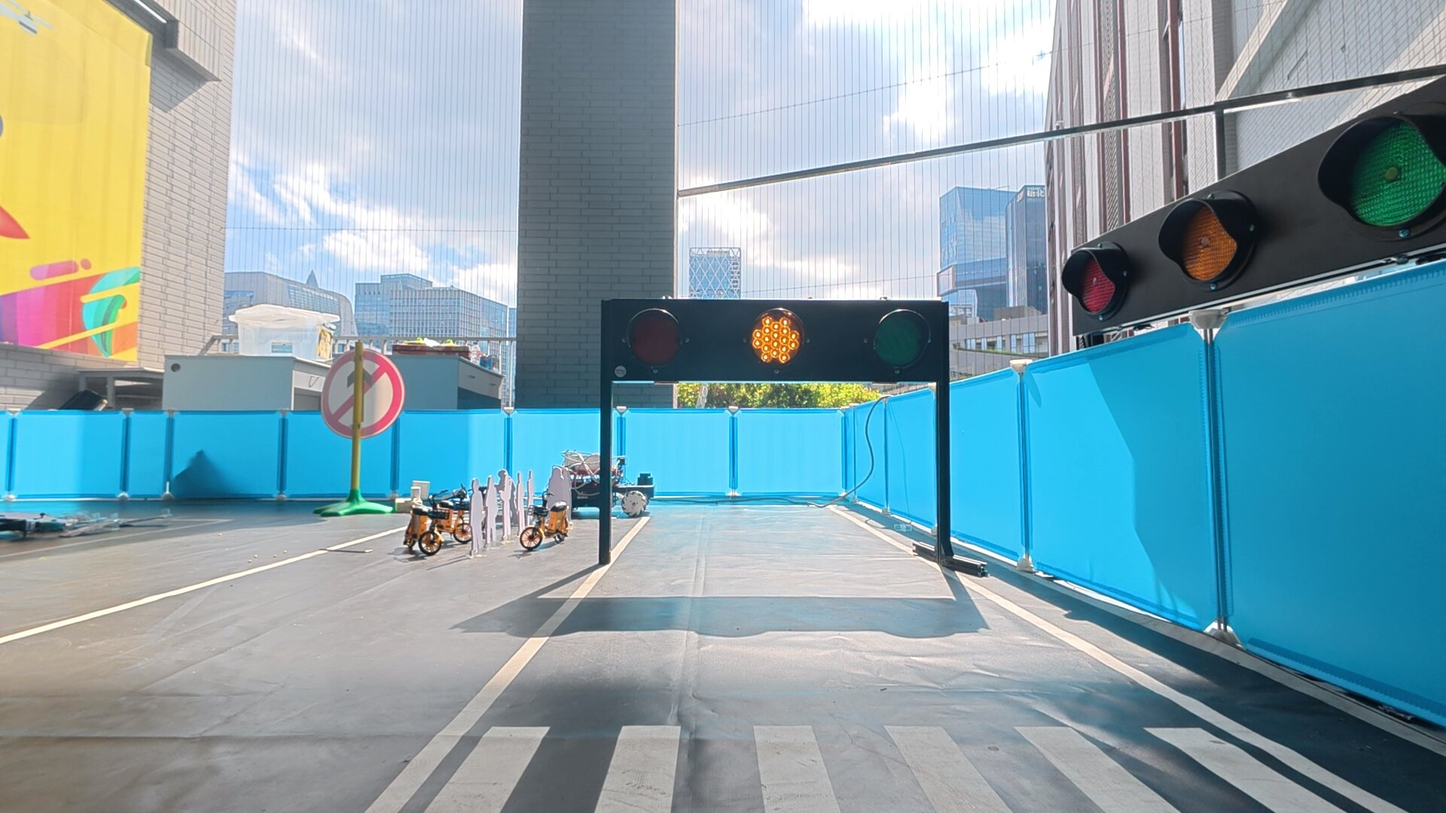stop: (749, 309, 805, 370)
